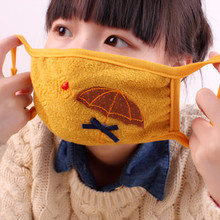face_mask: (39, 0, 171, 139)
